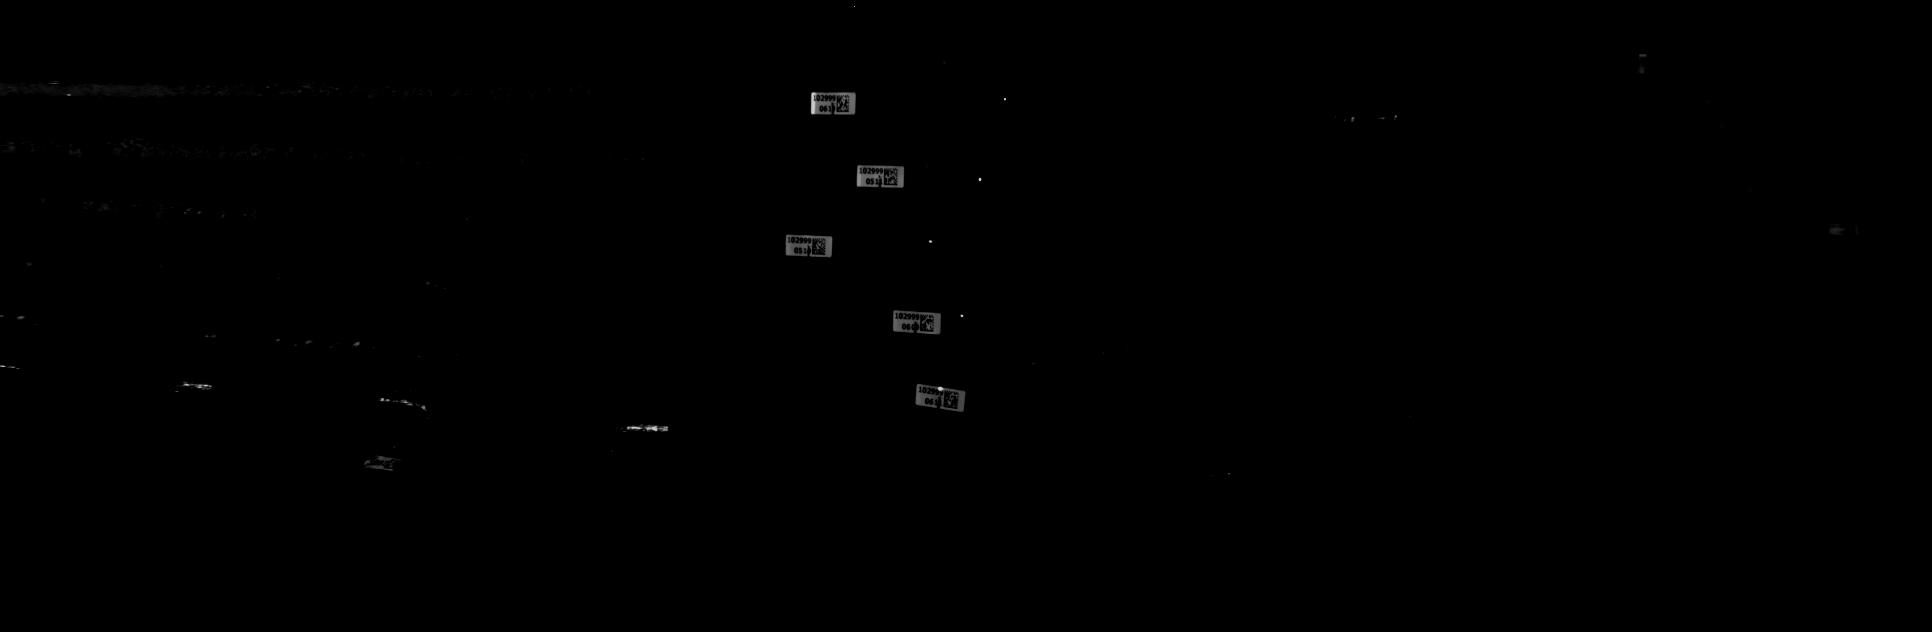data matrix: (944, 391, 961, 411), (835, 94, 851, 115), (883, 169, 899, 188), (920, 315, 936, 334), (813, 238, 828, 257)
